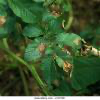Potato leaf late blight: (23, 36, 49, 61), (56, 52, 74, 79), (50, 59, 66, 86), (55, 32, 80, 49), (45, 19, 66, 34), (42, 10, 62, 21)
